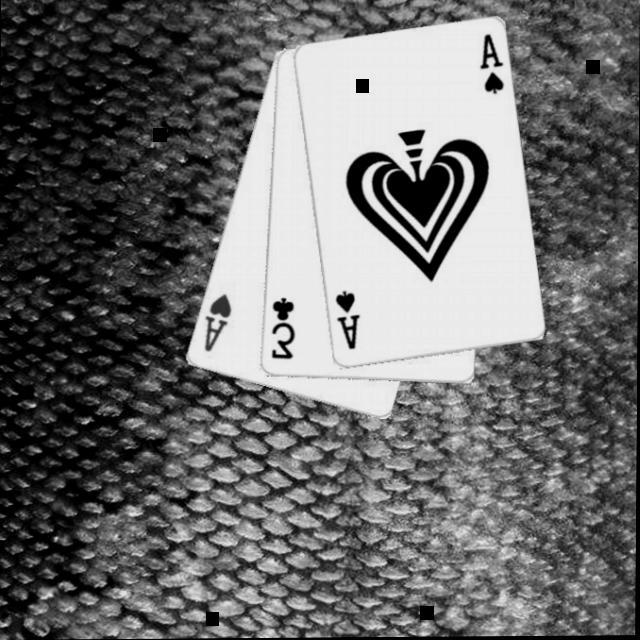3C: (265, 295, 295, 362)
AH: (199, 291, 232, 355)
AS: (474, 31, 504, 97), (330, 288, 360, 353)
